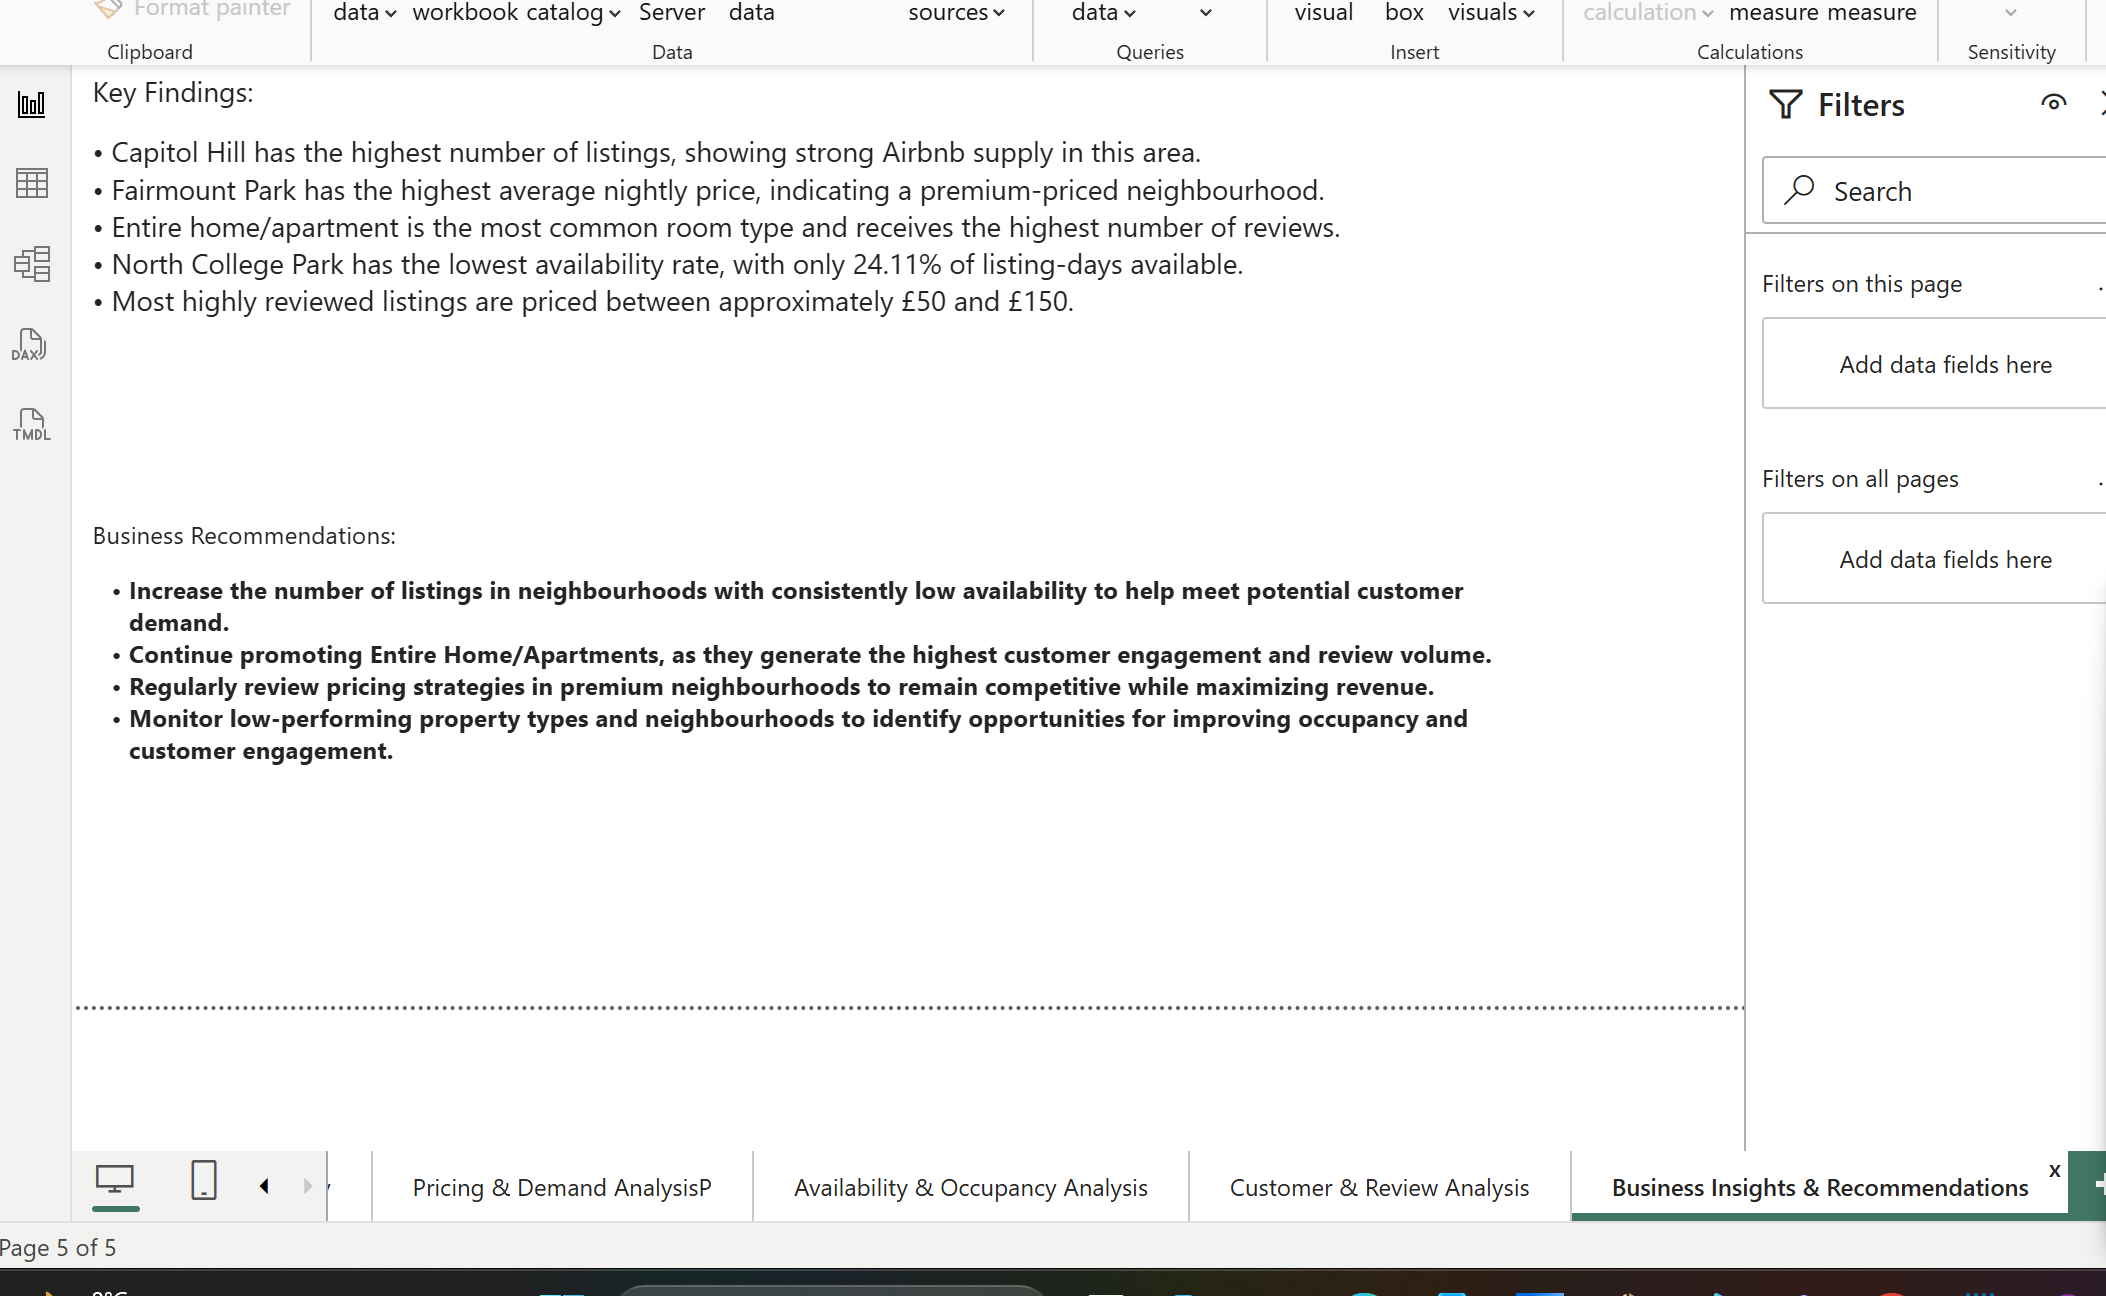

Layout of this report page (visuals, bound fields, positions):
{"tool":"powerbi","page":{"name":"Business Insights & Recommendations","canvas":[1280,720],"ordinal":4},"visuals":[{"type":"textbox","box":[10.3,0,1041.8,233],"z":0},{"type":"textbox","box":[10.3,341,1089.8,318.7],"z":1000}]}

Visuals, with their boxes on the page's 1280x720 design canvas (x1, y1, x2, y2). These are canvas units, not pixel positions in the 2106x1296 screenshot, which may show the page scaled, cropped or inside an application window:
textbox: <region>10, 0, 1052, 233</region>
textbox: <region>10, 341, 1100, 660</region>
